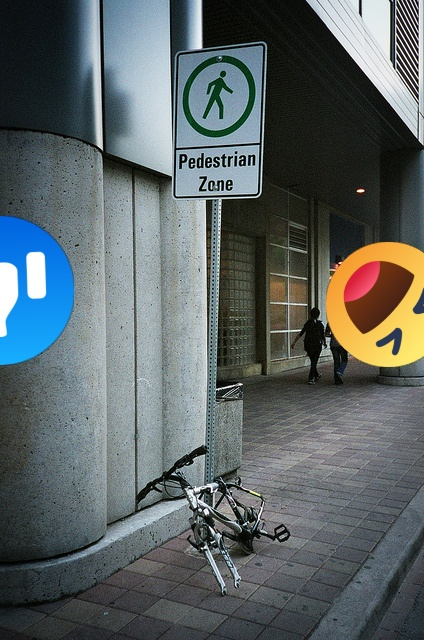haha: (326, 242, 424, 367)
like: (0, 216, 74, 365)
